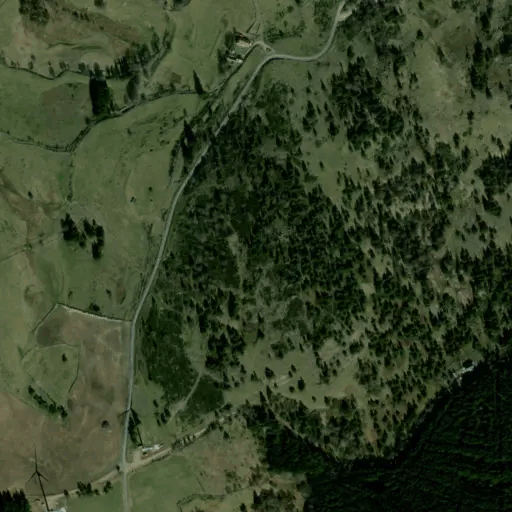wt: (123, 398, 162, 460), (24, 451, 59, 512)
